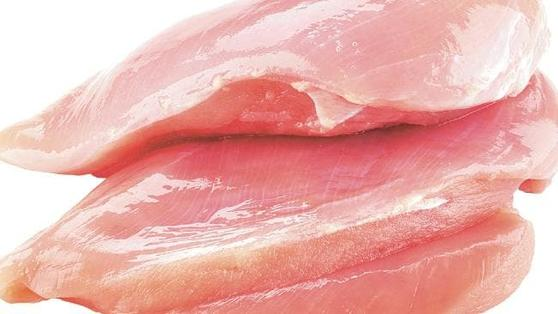chicken_fillet: (10, 120, 555, 311)
